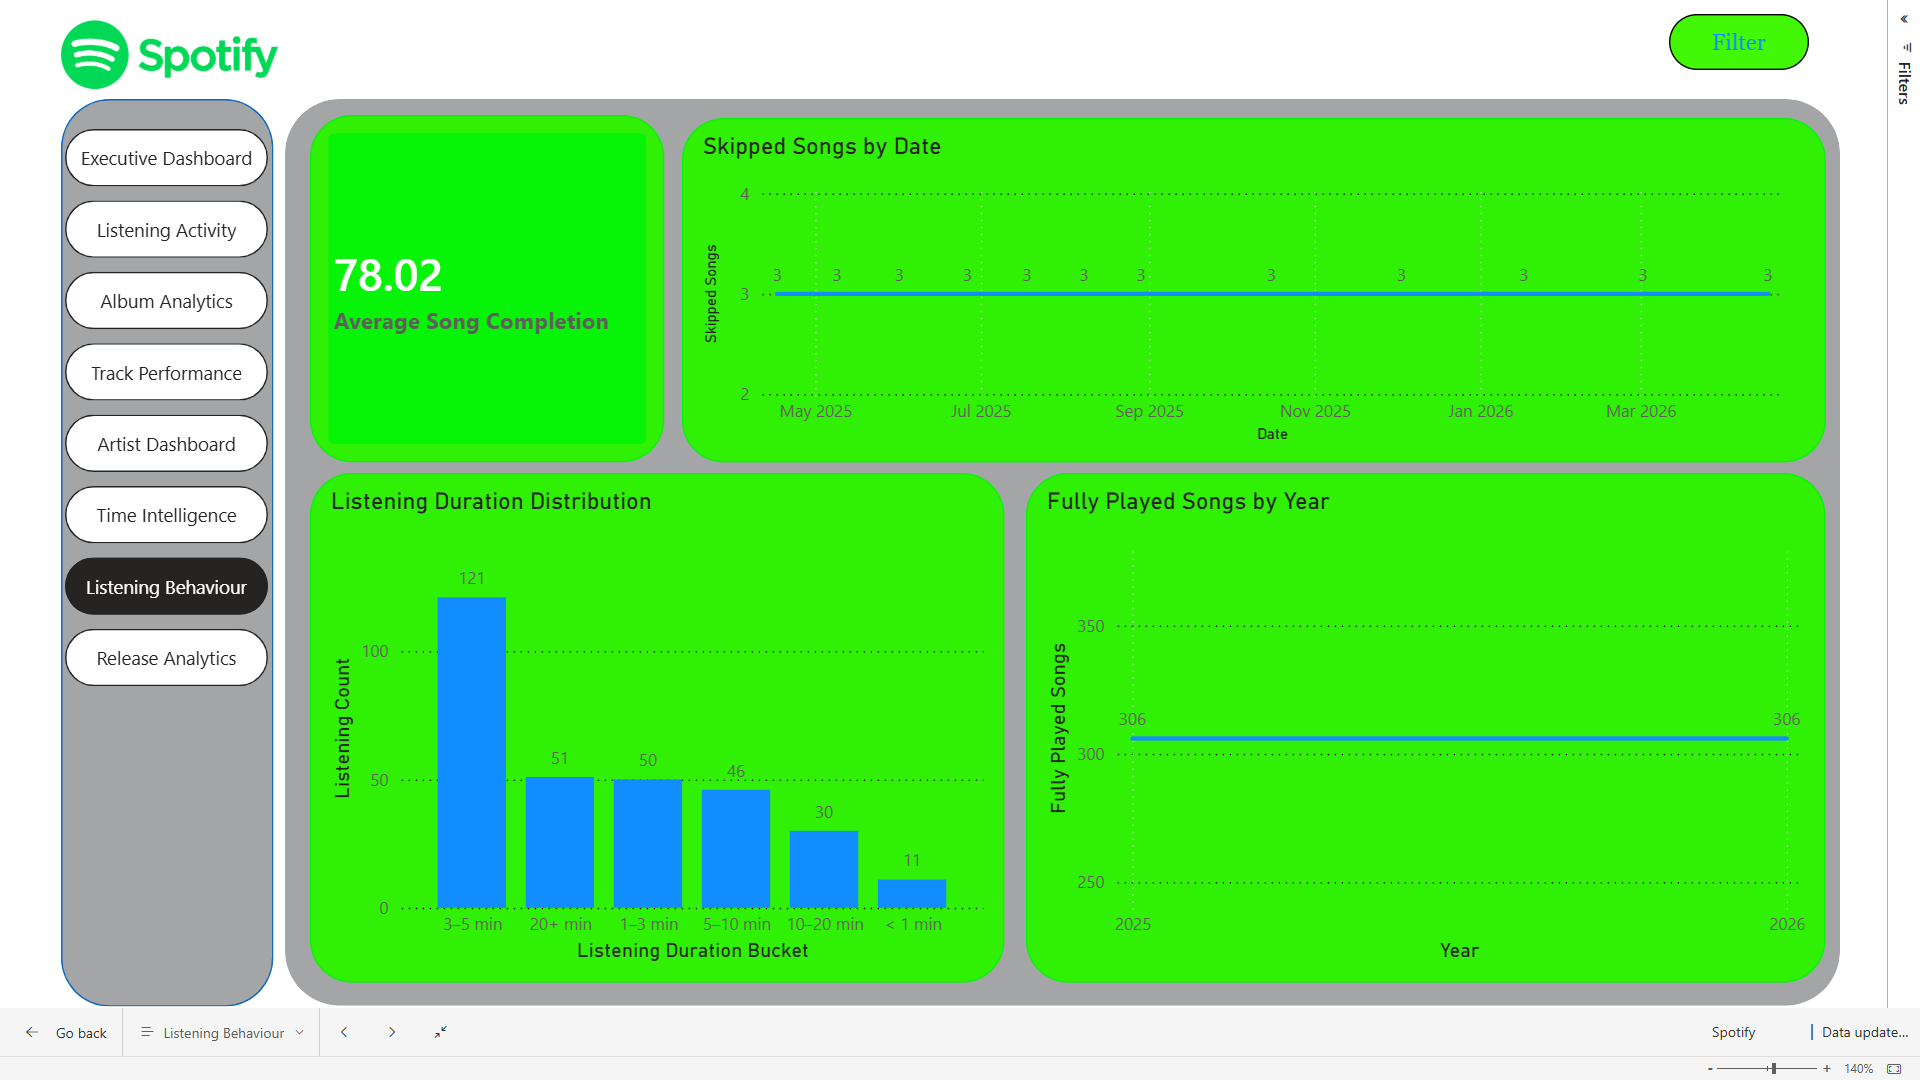

Layout of this report page (visuals, bound fields, positions):
{"tool":"powerbi","page":{"name":"Listening Behaviour","canvas":[1280,720],"ordinal":6},"visuals":[{"type":"image","title":"Brand Name","box":[8.2,3.6,158.2,70.9],"z":0},{"type":"shape","box":[169.3,70.6,1110.7,647.6],"z":0,"group":"g1"},{"type":"shape","box":[9,70.7,151.7,648.4],"z":0,"group":"g2"},{"type":"group","id":"g1","title":"Main","box":[169.3,70.6,1110.7,647.6],"z":1000},{"type":"cardVisual","fields":{"Data":["Custome Measure.Average Song Completion"]},"box":[187,81.7,253.4,248.1],"z":1000,"group":"g1"},{"type":"pageNavigator","box":[11.7,92.2,146,403],"z":1000,"group":"g2"},{"type":"columnChart","title":"Listening Duration Distribution","fields":{"Category":["spotify_skz_counts_album.Listening Duration Bucket"],"Y":["Custome Measure.Listening Count"]},"box":[187,337.8,496.1,363.6],"z":2000,"group":"g1"},{"type":"actionButton","title":"Filter","box":[1158,9.8,100,40],"z":3000},{"type":"group","id":"g2","title":"Navigation","box":[9,70.7,151.7,648.4],"z":4000},{"type":"lineChart","fields":{"Category":["spotify_skz_streaming.Date"],"Y":["Custome Measure.Skipped Songs"]},"box":[453.1,84.2,816.7,246.3],"z":5000},{"type":"lineChart","fields":{"Category":["spotify_skz_streaming.Date.Variation.Date Hierarchy.Year","spotify_skz_streaming.Date.Variation.Date Hierarchy.Quarter","spotify_skz_streaming.Date.Variation.Date Hierarchy.Month","spotify_skz_streaming.Date.Variation.Date Hierarchy.Day"],"Y":["Custome Measure.Fully Played Songs"]},"box":[698.5,337.6,571.3,363.6],"z":6000}]}

Visuals, with their boxes on the page's 1280x720 design canvas (x1, y1, x2, y2). These are canvas units, not pixel positions in the 1920x1080 screenshot, which may show the page scaled, cropped or inside an application window:
"Brand Name" image: [left=8, top=4, right=166, bottom=74]
shape: [left=169, top=71, right=1280, bottom=718]
shape: [left=9, top=71, right=161, bottom=719]
"Main" group: [left=169, top=71, right=1280, bottom=718]
cardVisual - Custome Measure.Average Song Completion: [left=187, top=82, right=440, bottom=330]
pageNavigator: [left=12, top=92, right=158, bottom=495]
"Listening Duration Distribution" columnChart: [left=187, top=338, right=683, bottom=701]
"Filter" actionButton: [left=1158, top=10, right=1258, bottom=50]
"Navigation" group: [left=9, top=71, right=161, bottom=719]
lineChart - spotify_skz_streaming.Date x Custome Measure.Skipped Songs: [left=453, top=84, right=1270, bottom=330]
lineChart - spotify_skz_streaming.Date.Variation.Date Hierarchy.Year x spotify_skz_streaming.Date.Variation.Date Hierarchy.Quarter: [left=698, top=338, right=1270, bottom=701]
